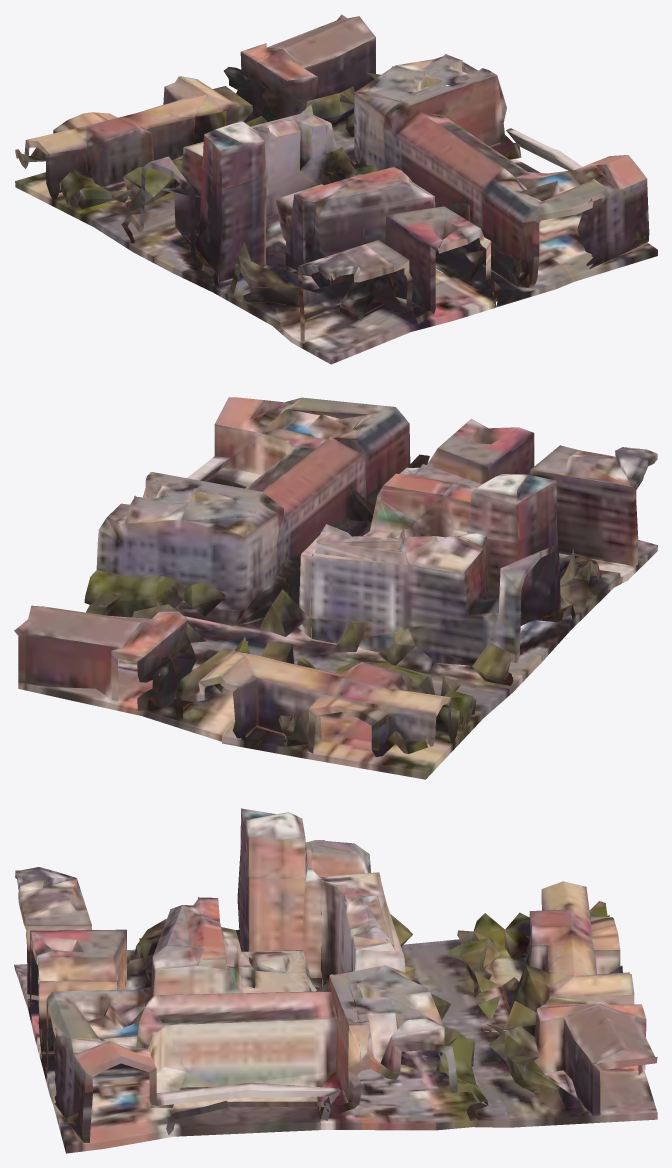
3 renders of one model, top to bottom at view 1: azimuth 30°, elevation 25°; view 2: azimuth 150°, elevation 25°; view 3: azimuth 270°, elevation 25°, orthographic. The views are drawn at different scales.
Visible parts, largest first — view 1: Mesh_0; view 2: Mesh_0; view 3: Mesh_0.
Boxes of the visible parts, x1,y1,x2,y2 form: Mesh_0: (15, 14, 657, 364); Mesh_0: (14, 397, 657, 779); Mesh_0: (14, 808, 657, 1153).
Size of the model in its own units: 134 by 47.35 by 165.
1 material, 1 textured.
